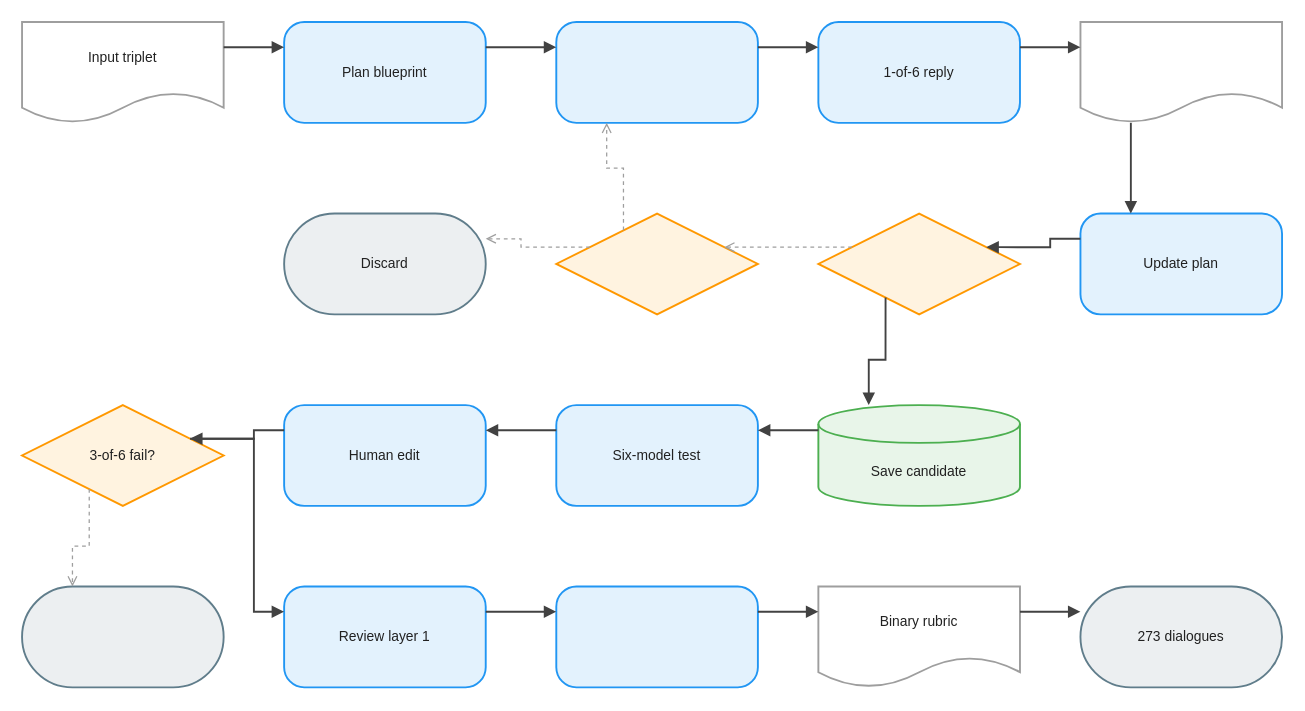
Some shapes in this 1305 by 711 pixel diagram are drawn without their labels. The shapes that lost their labels are listed below. From the top down, each one's box as (x1, y1, x2, y2) in pixels, then its label:
(555, 21, 758, 123): User turn
(1079, 21, 1282, 123): Chat history
(555, 212, 758, 315): At turn 10?
(817, 212, 1020, 315): Failure found?
(21, 585, 224, 688): Rework/discard
(555, 585, 758, 688): Review layer 2
